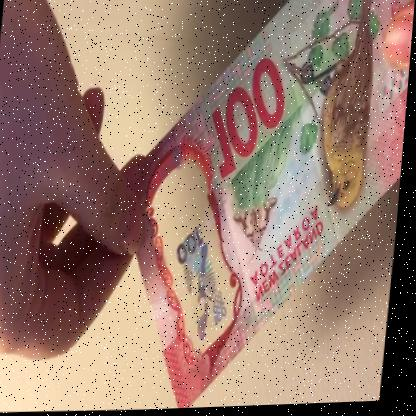100B: (168, 220, 244, 354)
